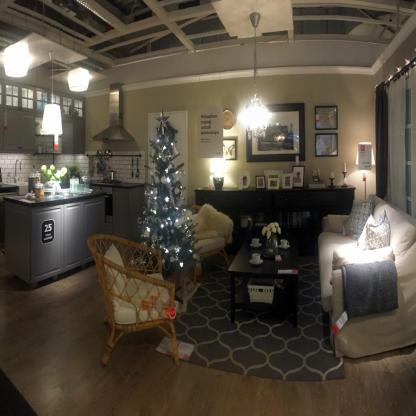gelas: (248, 253, 264, 266), (250, 237, 263, 249), (279, 240, 291, 248)
lampu: (85, 231, 185, 365)
meja: (228, 237, 303, 326)
sova: (313, 198, 416, 353)
